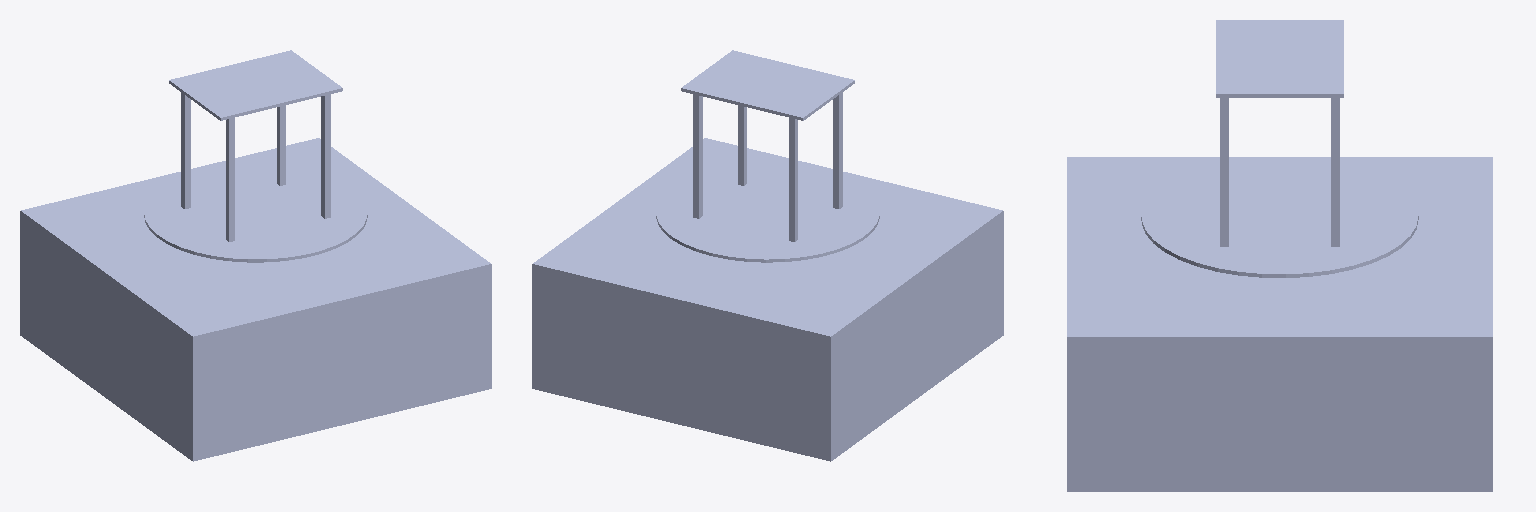
The robot description file, URDF, robot "biobot":
<robot
  name="biobot">
  <gazebo reference="base_link">
    <material>Gazebo/Orange</material>
    <!--<gravity>0</gravity>-->
  </gazebo>
  <link
    name="base_link">
    <inertial>
      <origin
        xyz="-6.6859E-20 -9.7063E-17 0.20509"
        rpy="0 0 0" />
      <mass
        value="405.19" />
      <inertia
        ixx="0.80923"
        ixy="3.5773E-33"
        ixz="1.063E-17"
        iyy="0.80923"
        iyz="-2.7232E-16"
        izz="9.178E-32" />
    </inertial>
    <visual>
      <origin
        xyz="0 0 0"
        rpy="0 0 0" />
      <geometry>
        <mesh
          filename="package://wamv_description/mesh/BIOBOT_Base.STL" />
      </geometry>
      <material
        name="">
        <color
          rgba="0.79216 0.81961 0.93333 1" />
      </material>
    </visual>
    <collision>
      <origin
        xyz="0 0 0"
        rpy="0 0 0" />
      <geometry>
        <mesh
          filename="package://wamv_description/mesh/BIOBOT_Base.STL" />
      </geometry>
    </collision>
  </link>
</robot>

--- Facts derived from the render (not from the file) ---
Views: 3 orthographic renders of the robot side by side, from view 1: azimuth 30°, elevation 25°; view 2: azimuth 150°, elevation 25°; view 3: azimuth 270°, elevation 25°.
Model biobot with 1 links and 0 joints (none), rooted at base_link, posed every joint at zero.
Links seen in each view (by area): view 1: base_link; view 2: base_link; view 3: base_link.
Link boxes in pixels (x1,y1,x2,y2): base_link: (20, 50, 491, 461); base_link: (532, 50, 1003, 461); base_link: (1067, 20, 1492, 491).
Bounding box of the posed robot: 1 × 1 × 0.89 m (x, y, z).
1 mesh visuals loaded from 1 distinct referenced files (1 binary STL).